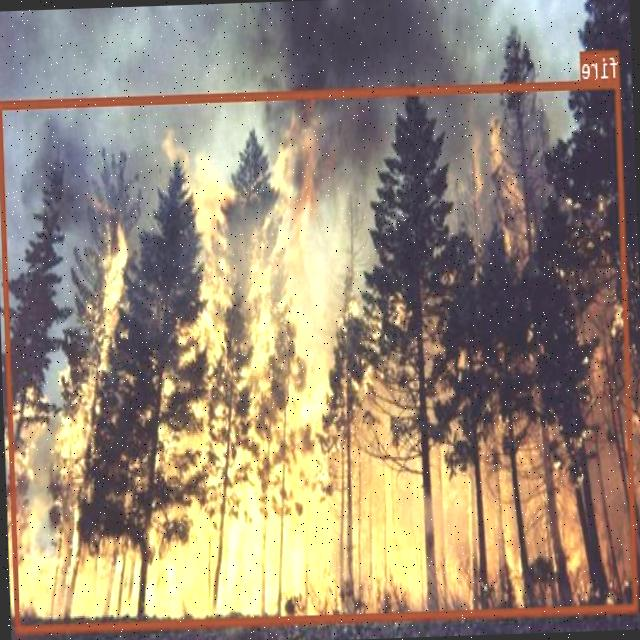fire: (0, 77, 637, 631)
